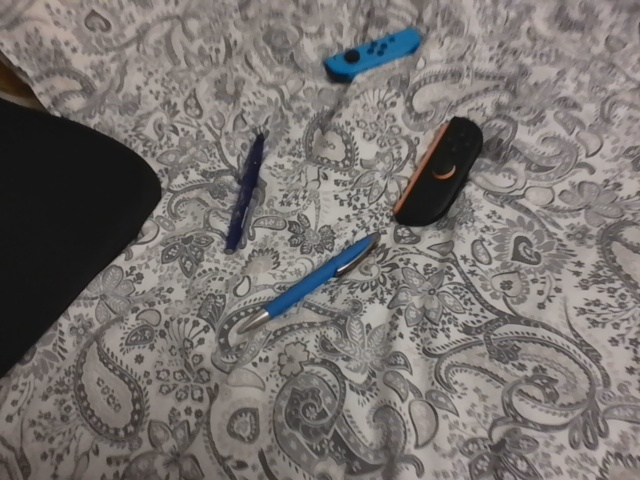joycon: (390, 112, 485, 225), (322, 23, 429, 82)
pen: (235, 231, 381, 339), (220, 129, 266, 258)
